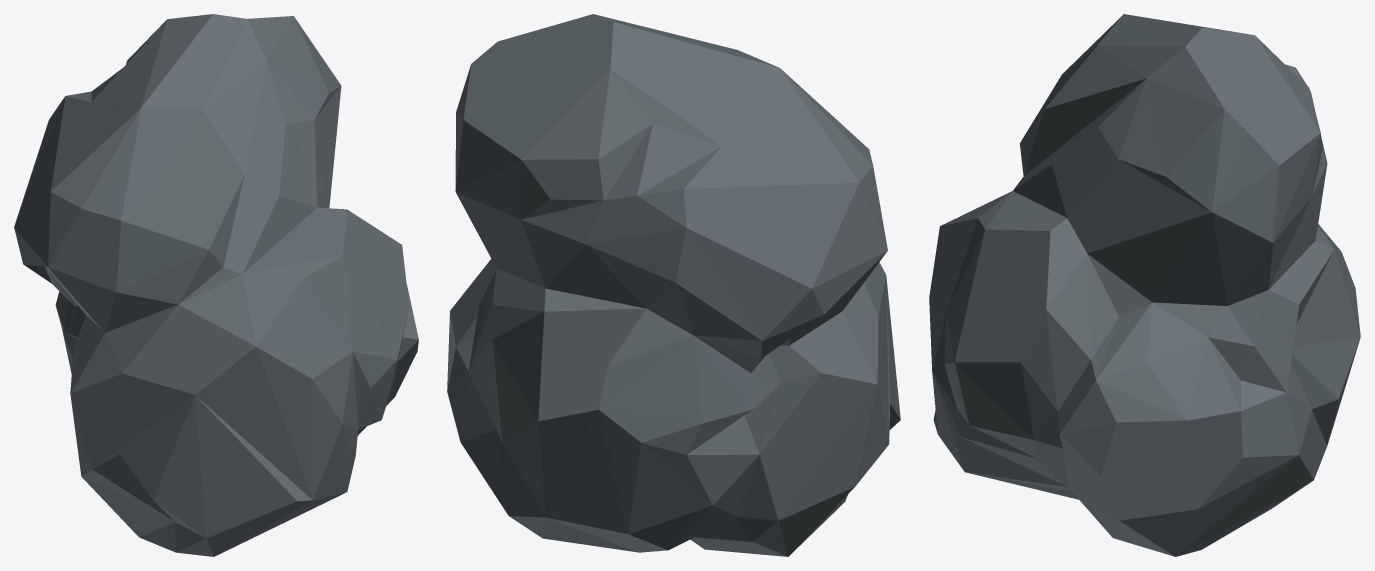
File: Rock_3.fbx
The picture shows the model from 3 angles, left to right: view 1: azimuth 30°, elevation 25°; view 2: azimuth 150°, elevation 25°; view 3: azimuth 270°, elevation 25°; orthographic projection. The views are drawn at different scales.
Parts seen in each view (by area): view 1: Group32155; view 2: Group32155; view 3: Group32155.
Boxes of the visible parts, x1=… form: Group32155: x1=14, y1=14, x2=418, y2=556; Group32155: x1=447, y1=14, x2=900, y2=556; Group32155: x1=929, y1=14, x2=1360, y2=556.
Bounding box in the file's own units: 198 × 251 × 192.
